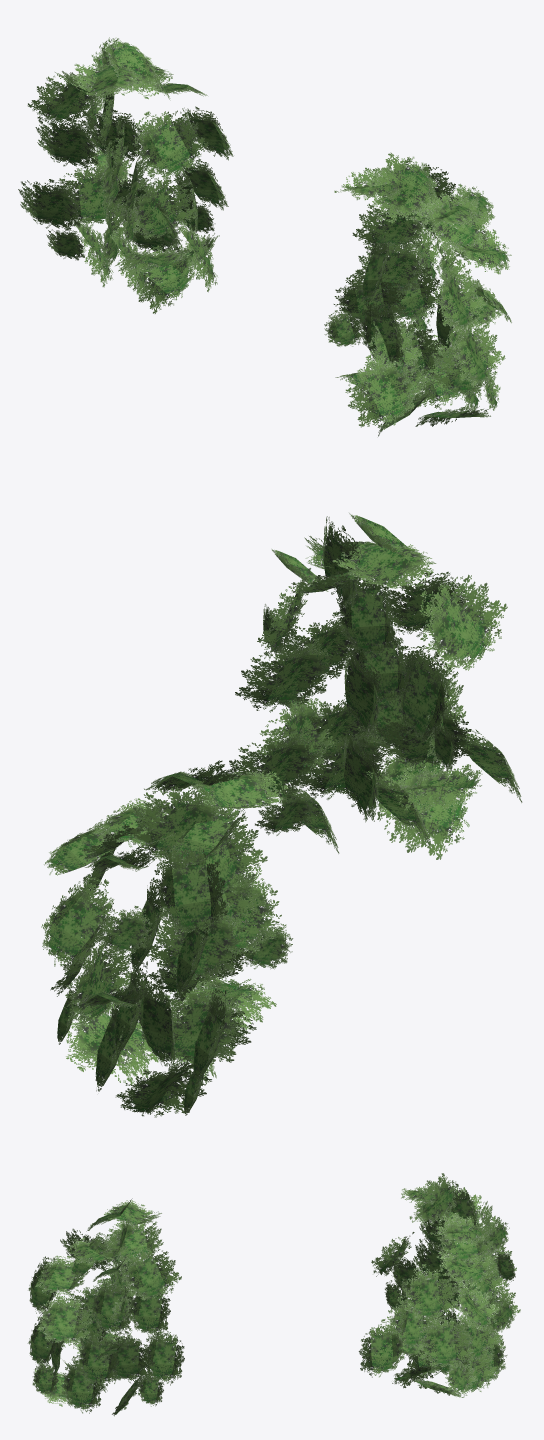
Rendered from Tree Grass.fbx.
3 views of the same model, one above another, from view 1: azimuth 30°, elevation 25°; view 2: azimuth 150°, elevation 25°; view 3: azimuth 270°, elevation 25° (orthographic). The views are drawn at different scales.
Visible parts, largest first — view 1: 葉っぱA2; view 2: 葉っぱA2; view 3: 葉っぱA2.
Part boxes in pixels (left/top/right/bottom): 葉っぱA2: left=18, top=37, right=511, bottom=436; 葉っぱA2: left=41, top=513, right=522, bottom=1117; 葉っぱA2: left=27, top=1173, right=520, bottom=1416.
Size of the model in its own units: 31.98 by 37.23 by 73.97.
1 material, 1 textured.
